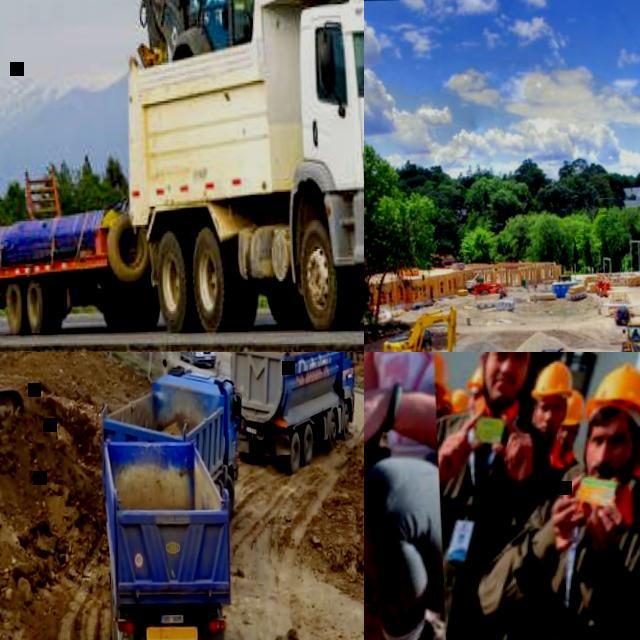Helmet: (591, 363, 640, 420), (536, 368, 578, 403), (567, 386, 584, 426)
Robbery: (440, 353, 529, 586), (568, 363, 640, 640), (527, 352, 567, 478), (560, 388, 579, 476)
